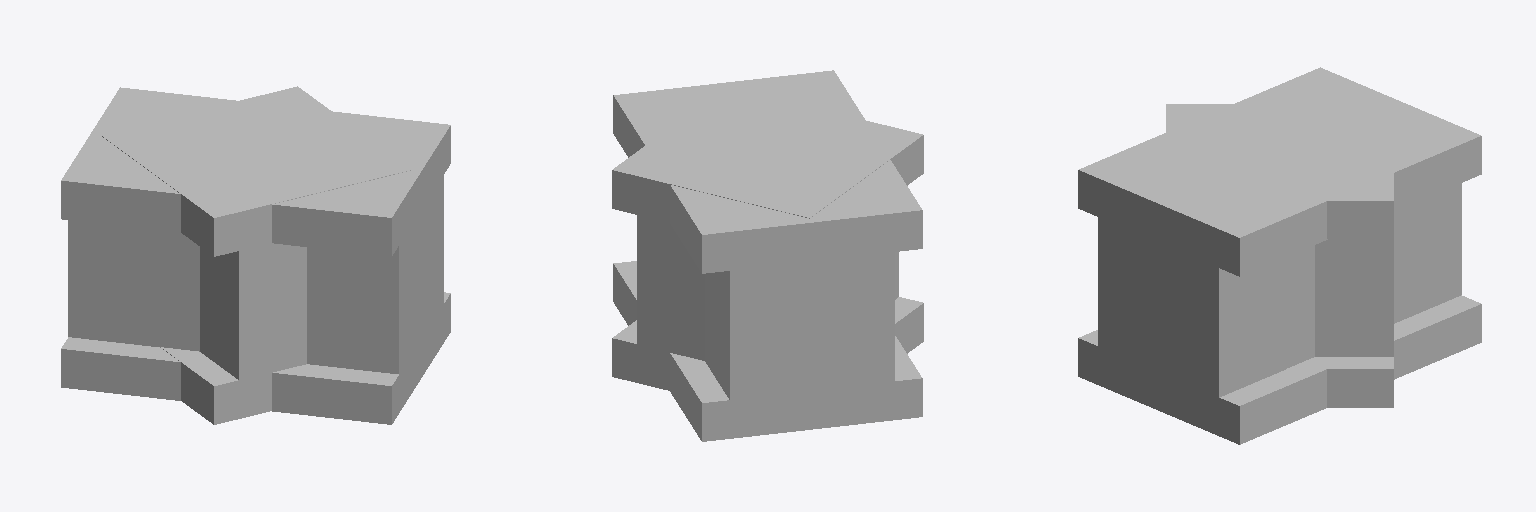
Rendered from cross_d1_zo.obj.
The picture shows the model from 3 angles: view 1: azimuth 30°, elevation 25°; view 2: azimuth 150°, elevation 25°; view 3: azimuth 270°, elevation 25°; orthographic projection.
Parts seen in each view (by area): view 1: real_middle, diag; view 2: real_middle, diag; view 3: real_middle, diag.
Boxes of the visible parts, <box> form: real_middle: <box>61,87,450,424</box>; diag: <box>101,86,410,424</box>; real_middle: <box>613,70,922,441</box>; diag: <box>612,86,923,390</box>; real_middle: <box>1078,67,1481,444</box>; diag: <box>1166,104,1393,407</box>.
Bounding box in the file's own units: 1.77 × 1 × 1.77.